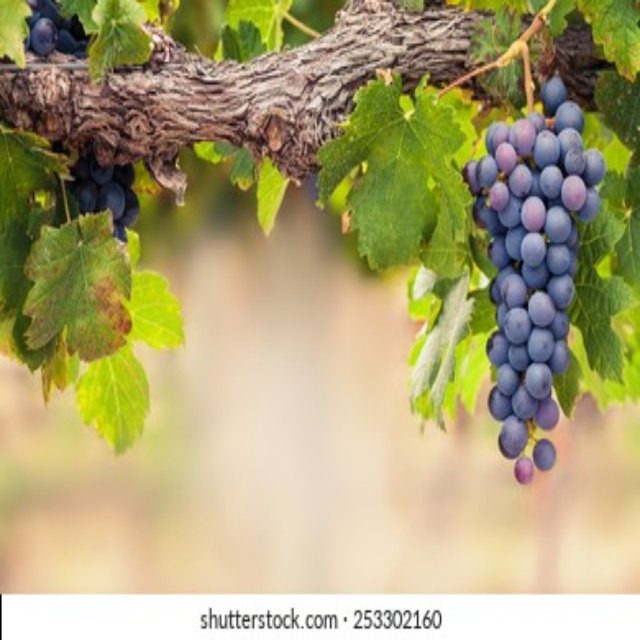grape: (464, 76, 611, 486)
